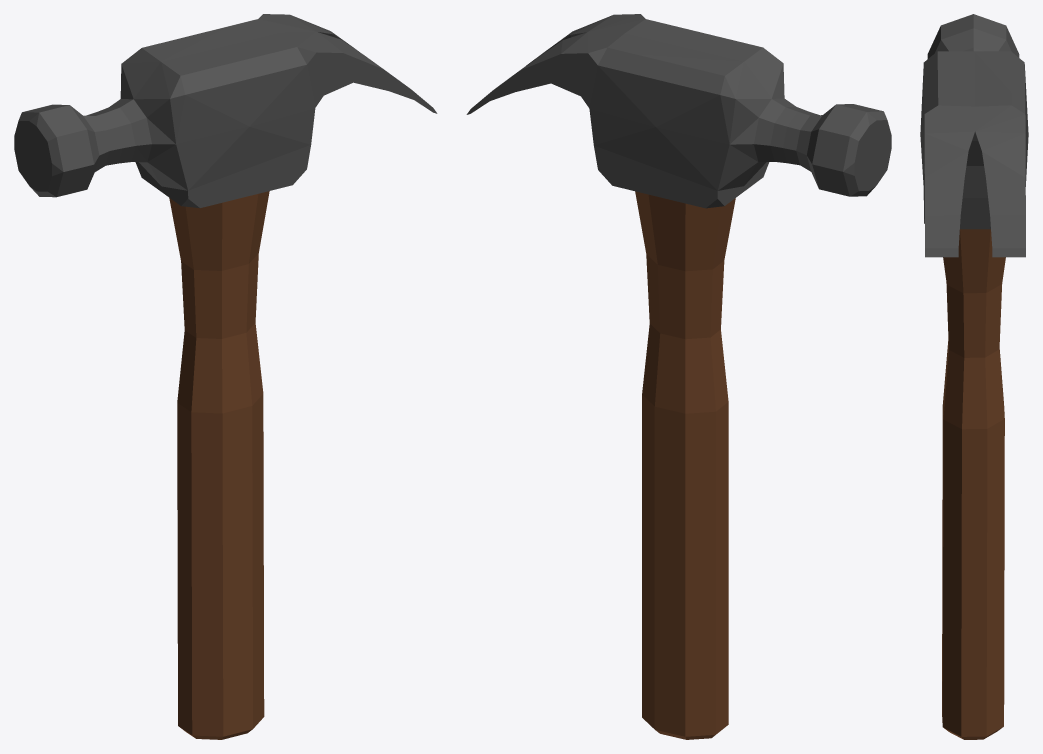
Rendered from Hammer.fbx.
3 renders of one model, left to right at view 1: azimuth 30°, elevation 25°; view 2: azimuth 150°, elevation 25°; view 3: azimuth 270°, elevation 25°, orthographic. The views are drawn at different scales.
Visible parts, largest first — view 1: Cylinder; view 2: Cylinder; view 3: Cylinder.
Boxes of the visible parts, x1,y1,x2,y2 form: Cylinder: [14, 14, 437, 739]; Cylinder: [466, 14, 891, 739]; Cylinder: [920, 14, 1028, 739].
Size of the model in its own units: 86.42 by 148 by 22.44.
